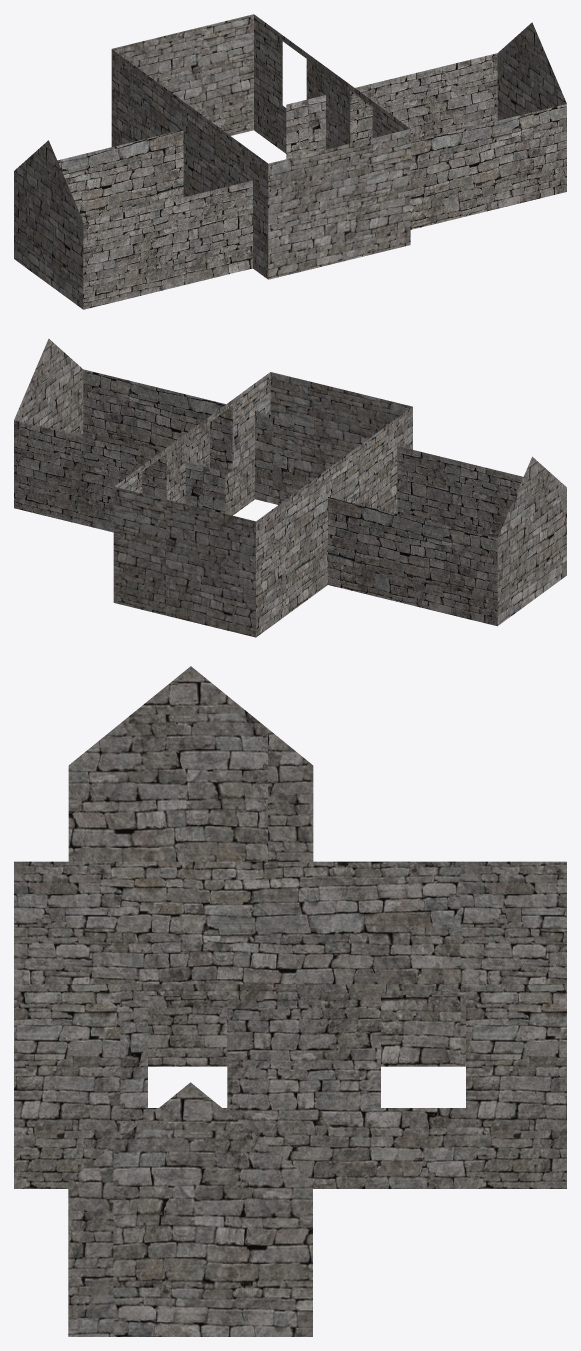
File: house_base.obj
3 renders of one model, top to bottom at view 1: azimuth 30°, elevation 25°; view 2: azimuth 150°, elevation 25°; view 3: azimuth 270°, elevation 25°, orthographic. The views are drawn at different scales.
Visible parts, largest first — view 1: Level1_Cube.001; view 2: Level1_Cube.001; view 3: Level1_Cube.001.
Boxes of the visible parts, x1,y1,x2,y2 form: Level1_Cube.001: [14, 14, 566, 309]; Level1_Cube.001: [14, 339, 566, 637]; Level1_Cube.001: [14, 666, 566, 1336].
Bounding box in the file's own units: 14.21 × 4.05 × 7.98.
Materials: 1 (1 with a texture image).
